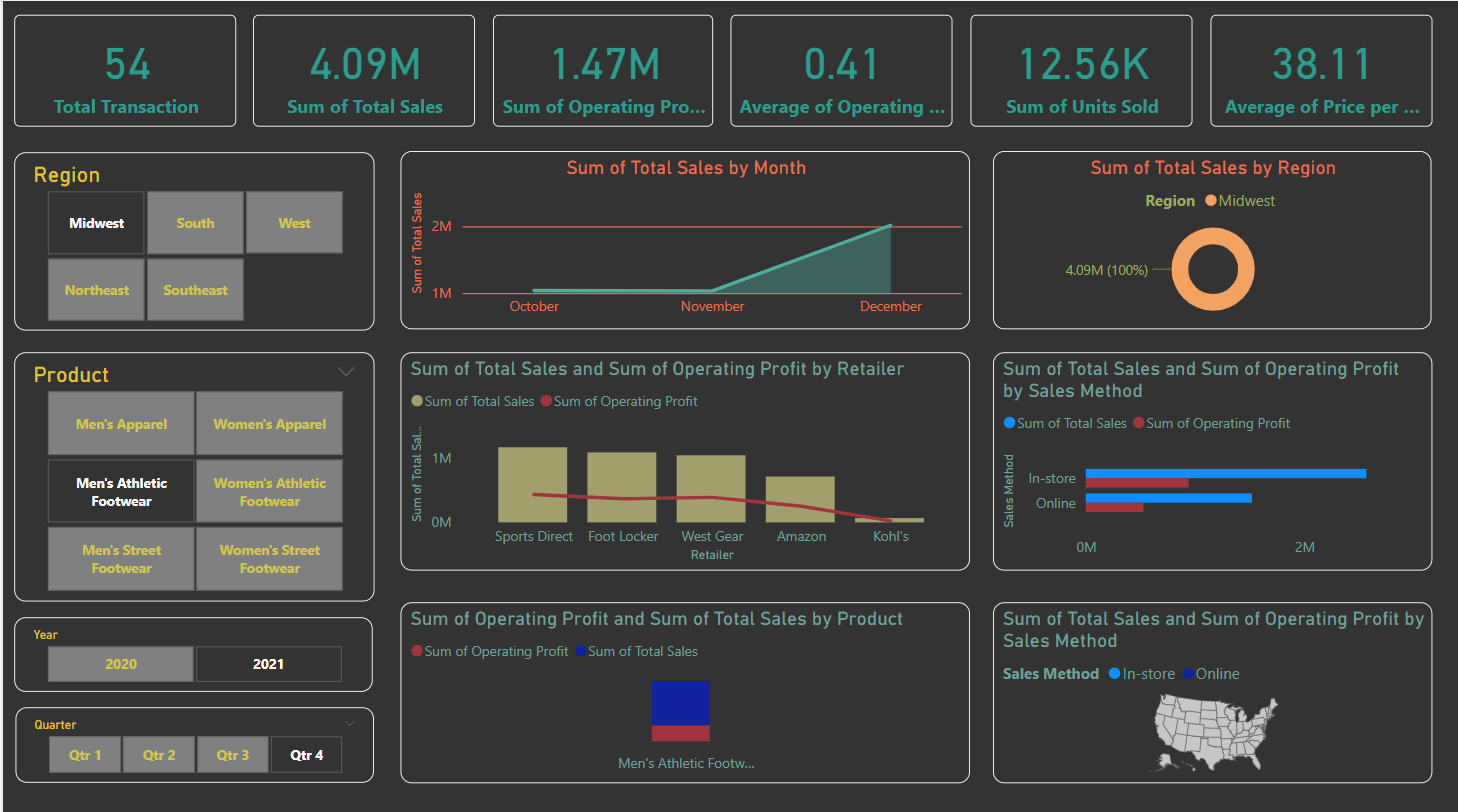

The page's visual inventory and layout, read from the dashboard file:
{"tool":"powerbi","page":{"name":"Page 1","canvas":[1280,720],"ordinal":0},"visuals":[{"type":"card","fields":{"Values":["Data.Total Transaction"]},"box":[9.5,11.9,195.2,98.8],"z":0},{"type":"card","fields":{"Values":["Sum(Data.Total Sales)"]},"box":[220.2,11.9,195.2,98.8],"z":1000},{"type":"card","fields":{"Values":["Sum(Data.Operating Profit)"]},"box":[430.8,11.9,194,98.8],"z":2000},{"type":"card","fields":{"Values":["Avg(Data.Operating Margin)"]},"box":[640.3,11.9,195.2,98.8],"z":3000},{"type":"card","fields":{"Values":["Sum(Data.Units Sold)"]},"box":[850.9,11.9,195.2,98.8],"z":4000},{"type":"card","fields":{"Values":["Avg(Data.Price per Unit)"]},"box":[1061.6,11.9,195.2,98.8],"z":5000},{"type":"slicer","fields":{"Values":["Data.Region"]},"box":[9.5,132.1,316.6,157.1],"z":6000},{"type":"slicer","fields":{"Values":["Data.Product"]},"box":[9.5,309.4,316.6,219],"z":7000},{"type":"slicer","fields":{"Values":["Data.Invoice Date.Variation.Date Hierarchy.Year"]},"box":[10.7,540.3,315.4,66.6],"z":8000},{"type":"slicer","fields":{"Values":["Data.Invoice Date.Variation.Date Hierarchy.Quarter"]},"box":[10.7,621.2,315.4,66.6],"z":9000},{"type":"areaChart","fields":{"Y":["Sum(Data.Total Sales)"],"Category":["Data.Invoice Date.Variation.Date Hierarchy.Month"]},"box":[349.9,132.1,501,157.1],"z":10000},{"type":"donutChart","fields":{"Y":["Sum(Data.Total Sales)"],"Category":["Data.Region"]},"box":[871.1,132.1,385.6,157.1],"z":11000},{"type":"lineStackedColumnComboChart","fields":{"Y2":["Sum(Data.Operating Profit)"],"Category":["Data.Retailer"],"Y":["Sum(Data.Total Sales)"]},"box":[349.9,309.4,501,191.6],"z":12000},{"type":"ribbonChart","fields":{"Y":["Sum(Data.Operating Profit)","Sum(Data.Total Sales)"],"Category":["Data.Product"]},"box":[349.9,528.4,501,159.5],"z":13000},{"type":"clusteredBarChart","fields":{"Category":["Data.Sales Method"],"Y":["Sum(Data.Total Sales)","Sum(Data.Operating Profit)"]},"box":[871,309,386,192],"z":14000},{"type":"shapeMap","fields":{"Series":["Data.Sales Method"],"Value":["Sum(Data.Total Sales)"]},"box":[871.1,528.4,386.8,159.5],"z":15000}]}

Visuals, with their boxes in screenshot pixels (x1, y1, x2, y2), scaled from the page's 1280x720 canvas onto the 1458x812 screenshot:
card - Data.Total Transaction: region(11, 13, 233, 125)
card - Sum(Data.Total Sales): region(251, 13, 473, 125)
card - Sum(Data.Operating Profit): region(491, 13, 712, 125)
card - Avg(Data.Operating Margin): region(729, 13, 952, 125)
card - Sum(Data.Units Sold): region(969, 13, 1192, 125)
card - Avg(Data.Price per Unit): region(1209, 13, 1432, 125)
slicer - Data.Region: region(11, 149, 371, 326)
slicer - Data.Product: region(11, 349, 371, 596)
slicer - Data.Invoice Date.Variation.Date Hierarchy.Year: region(12, 609, 371, 684)
slicer - Data.Invoice Date.Variation.Date Hierarchy.Quarter: region(12, 701, 371, 776)
areaChart - Sum(Data.Total Sales) x Data.Invoice Date.Variation.Date Hierarchy.Month: region(399, 149, 969, 326)
donutChart - Sum(Data.Total Sales) x Data.Region: region(992, 149, 1431, 326)
lineStackedColumnComboChart - Sum(Data.Operating Profit) x Data.Retailer: region(399, 349, 969, 565)
ribbonChart - Sum(Data.Operating Profit) x Sum(Data.Total Sales): region(399, 596, 969, 776)
clusteredBarChart - Data.Sales Method x Sum(Data.Total Sales): region(992, 348, 1432, 565)
shapeMap - Data.Sales Method x Sum(Data.Total Sales): region(992, 596, 1433, 776)
